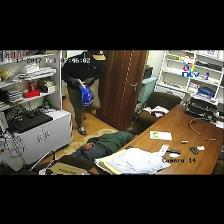person: (62, 51, 105, 135), (70, 128, 139, 161)
